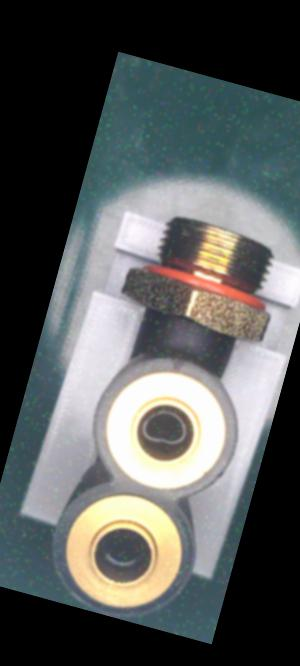bump: (165, 352, 189, 375)
joint line: (180, 328, 194, 353)
off-centered: (134, 401, 194, 452)
